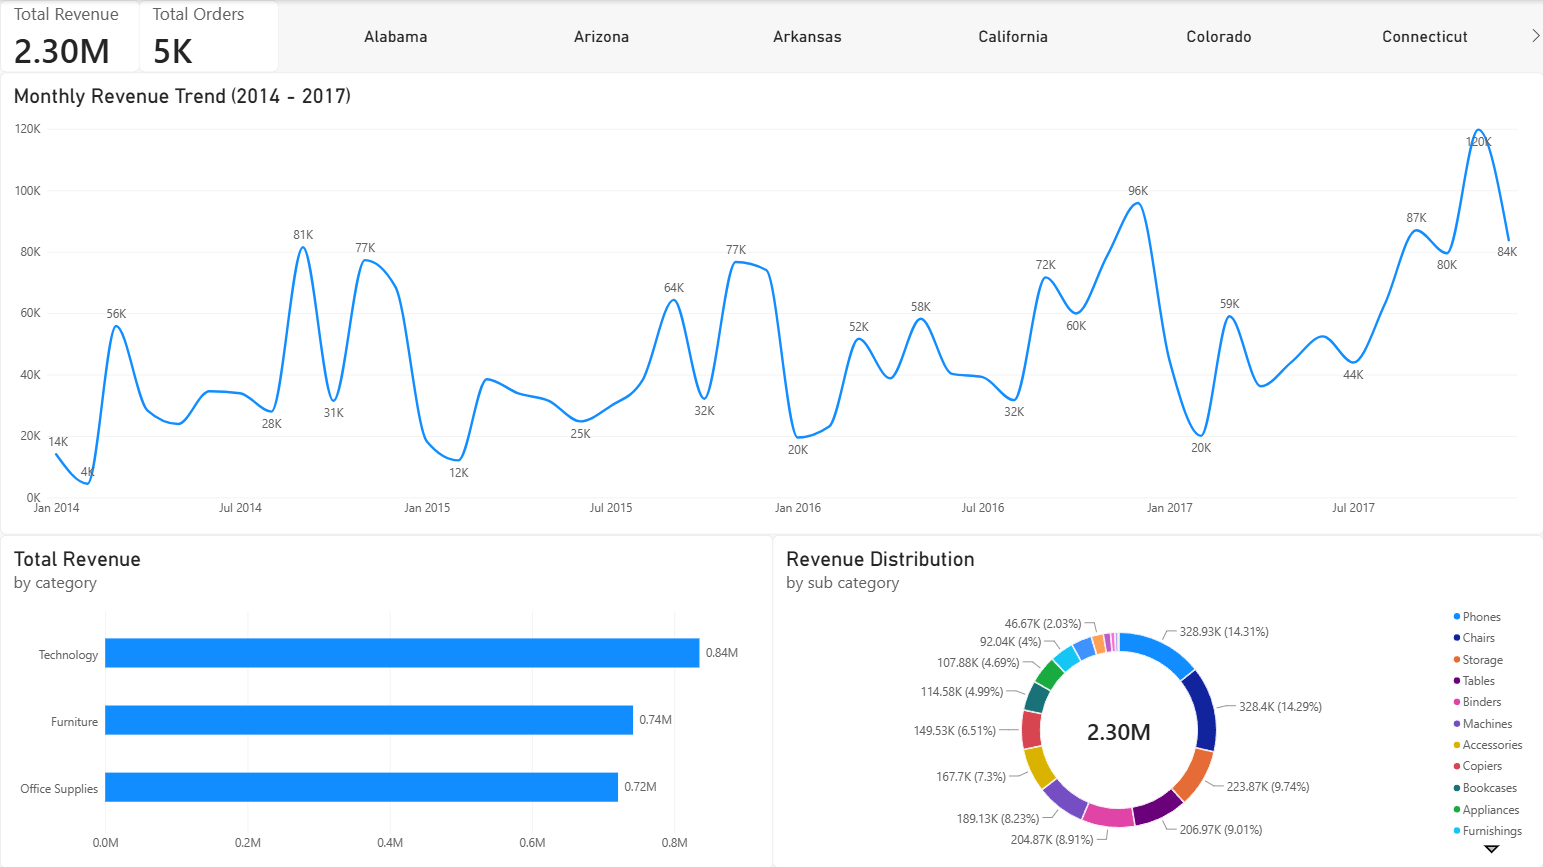

This screenshot's page, from the dashboard's own definition file:
{"tool":"powerbi","page":{"name":"Executive Overview","canvas":[1920,1080],"ordinal":0},"visuals":[{"type":"cardVisual","fields":{"Data":["orders.Total Revenue"]},"box":[0,0,175,90.6],"z":0},{"type":"cardVisual","fields":{"Data":["orders.Total Orders"]},"box":[172.9,0,175,90.6],"z":1000},{"type":"lineChart","title":"Monthly Revenue Trend (2014 - 2017)","fields":{"Category":["orders.order_date.Variation.Date Hierarchy.Year","orders.order_date.Variation.Date Hierarchy.Quarter","orders.order_date.Variation.Date Hierarchy.Month","orders.order_date.Variation.Date Hierarchy.Day"],"Y":["orders.Total Revenue"]},"box":[0,90.6,1920.4,574.3],"z":2000},{"type":"clusteredBarChart","fields":{"Category":["products.category"],"Y":["orders.Total Revenue"]},"box":[0,664.8,961.2,415.8],"z":3000},{"type":"advancedSlicerVisual","fields":{"Values":["orders.state"]},"box":[347.9,0,1572.6,90.6],"z":4000},{"type":"donutChart","title":"Revenue Distribution","fields":{"Category":["products.sub_category"],"Y":["orders.Total Revenue"]},"box":[961,665,959,415],"z":4001}]}

Visuals, with their boxes in screenshot pixels (x1, y1, x2, y2), scaled from the page's 1920x1080 canvas onto the 1543x867 screenshot:
cardVisual - orders.Total Revenue: pyautogui.locateOnScreen(0, 0, 141, 73)
cardVisual - orders.Total Orders: pyautogui.locateOnScreen(139, 0, 280, 73)
"Monthly Revenue Trend (2014 - 2017)" lineChart: pyautogui.locateOnScreen(0, 73, 1542, 534)
clusteredBarChart - products.category x orders.Total Revenue: pyautogui.locateOnScreen(0, 534, 772, 866)
advancedSlicerVisual - orders.state: pyautogui.locateOnScreen(280, 0, 1542, 73)
"Revenue Distribution" donutChart: pyautogui.locateOnScreen(772, 534, 1542, 866)
